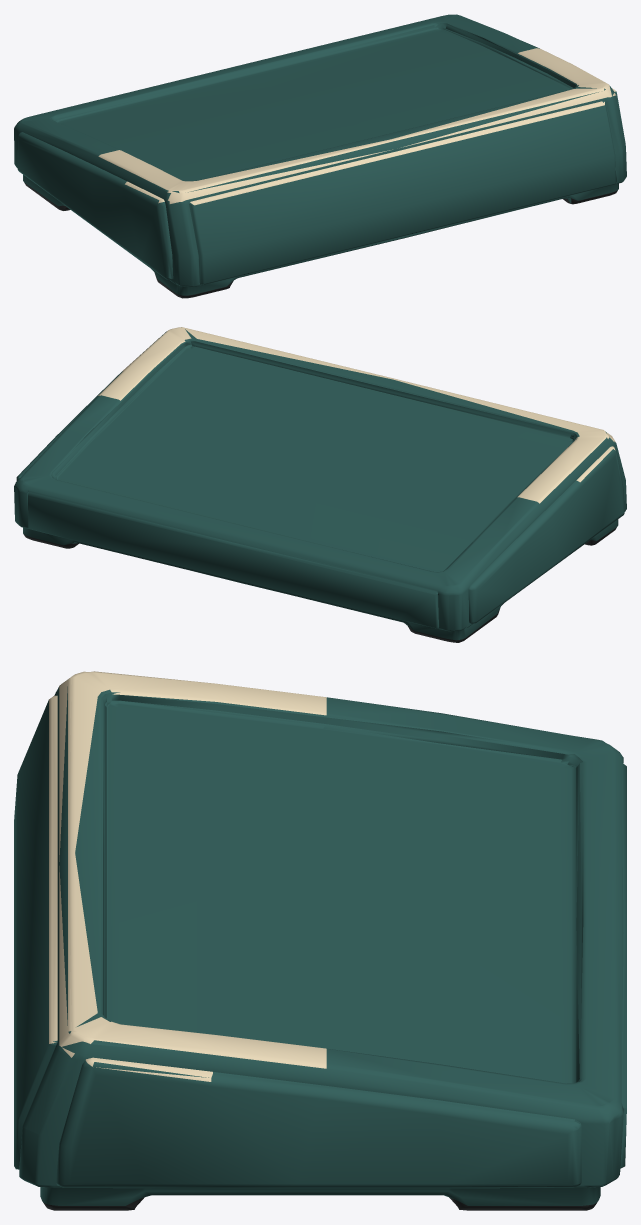
The model's file is H01_sampler_shell.glb.
3 views of the same model, one above another, from view 1: azimuth 30°, elevation 25°; view 2: azimuth 150°, elevation 25°; view 3: azimuth 270°, elevation 25° (orthographic). The views are drawn at different scales.
Visible parts, largest first — view 1: H01_Housing_Shell; view 2: H01_Housing_Shell; view 3: H01_Housing_Shell.
Boxes of the visible parts, <box> form: H01_Housing_Shell: <box>14,14,626,298</box>; H01_Housing_Shell: <box>14,327,626,642</box>; H01_Housing_Shell: <box>14,671,626,1210</box>.
Size of the model in its own units: 6 by 1.25 by 4.
